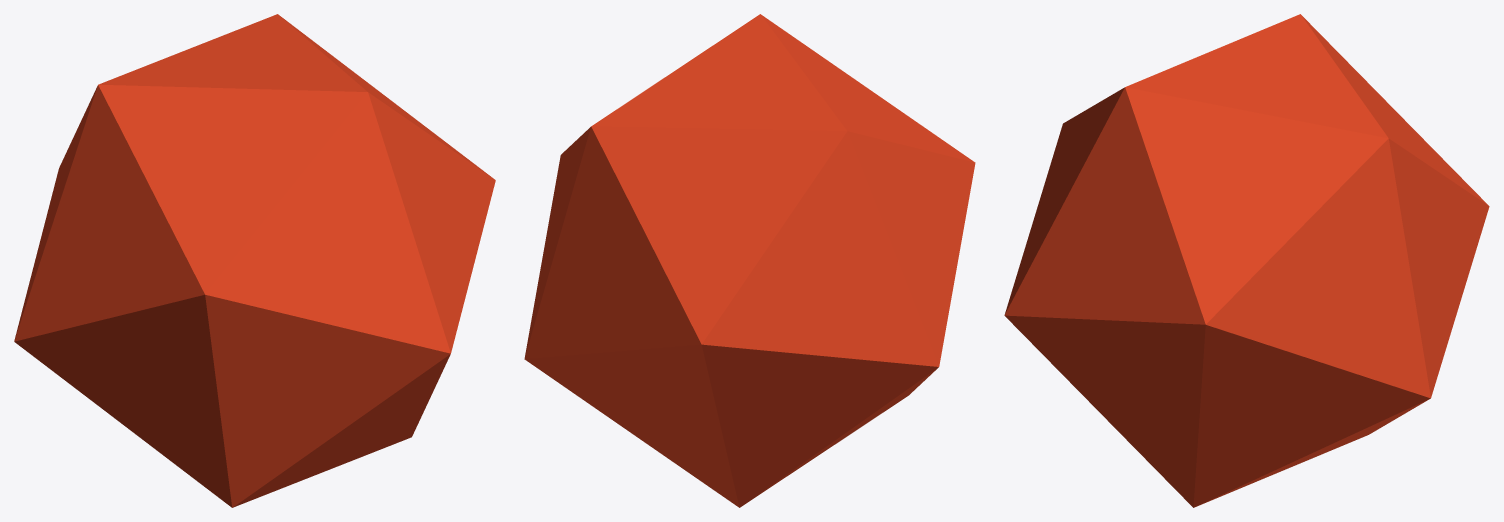
Rendered from apple.fbx.
3 views of the same model, side by side, from view 1: azimuth 30°, elevation 25°; view 2: azimuth 150°, elevation 25°; view 3: azimuth 270°, elevation 25° (orthographic). The views are drawn at different scales.
Visible parts, largest first — view 1: apple; view 2: apple; view 3: apple.
Boxes of the visible parts, box(x1,y1,x2,y2) form: apple: box(14, 14, 495, 507); apple: box(524, 14, 975, 507); apple: box(1004, 14, 1489, 507).
Bounding box in the file's own units: 0.1675 × 0.1469 × 0.1628.
